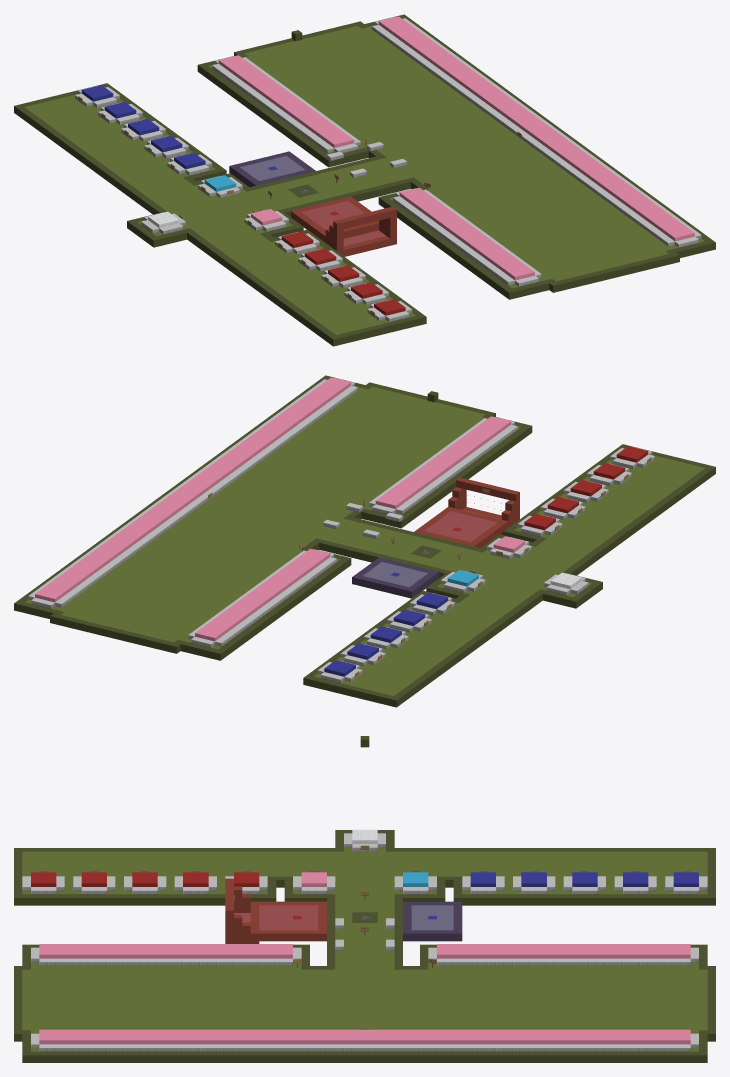
File: minecraft.obj
3 views of the same model, one above another, from view 1: azimuth 30°, elevation 25°; view 2: azimuth 150°, elevation 25°; view 3: azimuth 270°, elevation 25° (orthographic). The views are drawn at different scales.
Size of the model in its own units: 63 by 25 by 83.
